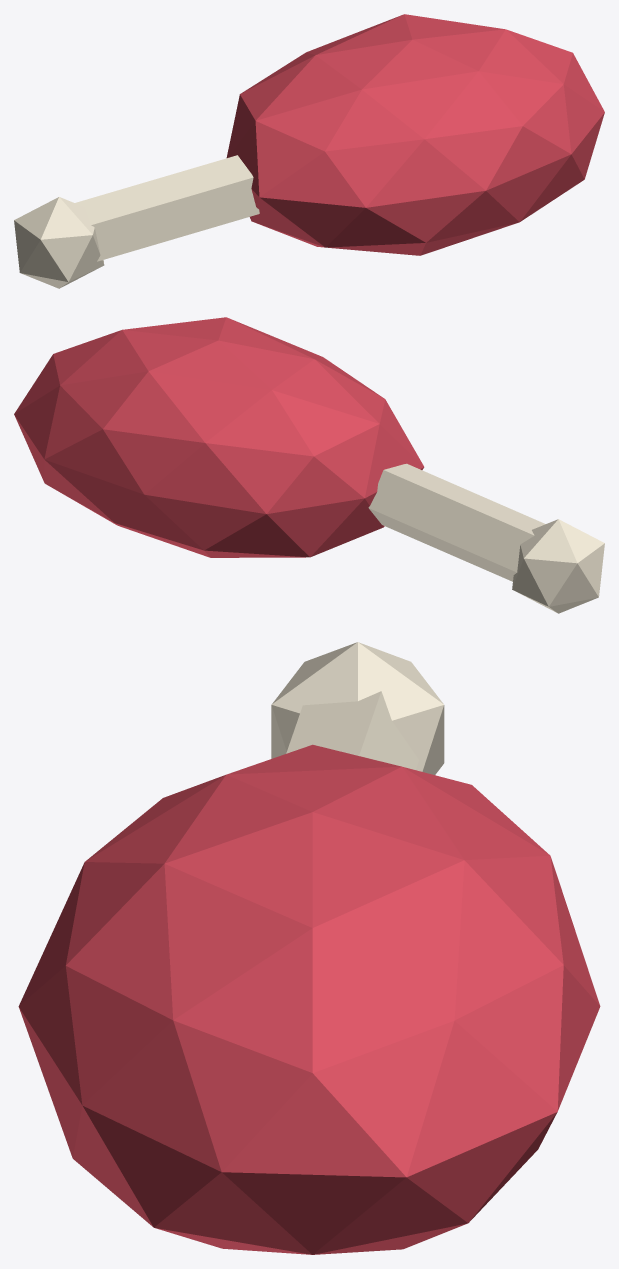
File: item_048_smoked_meat_s.glb
3 renders of one model, top to bottom at view 1: azimuth 30°, elevation 25°; view 2: azimuth 150°, elevation 25°; view 3: azimuth 270°, elevation 25°, orthographic. The views are drawn at different scales.
Parts seen in each view (by area): view 1: item_048_smoked_meat_s; view 2: item_048_smoked_meat_s; view 3: item_048_smoked_meat_s.
Part boxes in pixels (left/top/right/bottom): item_048_smoked_meat_s: left=14, top=14, right=604, bottom=288; item_048_smoked_meat_s: left=14, top=317, right=604, bottom=613; item_048_smoked_meat_s: left=18, top=642, right=600, bottom=1254.
Bounding box in the file's own units: 0.5695 × 0.1851 × 0.2578.
